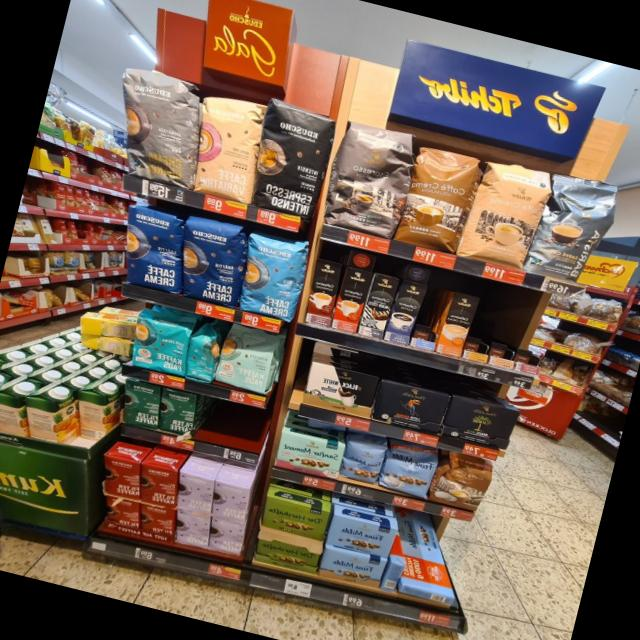BM Gemahlen: (439, 392, 522, 452)
BW Gemahlen: (300, 359, 380, 420)
Barista CC: (524, 165, 622, 288)
CC Mild: (456, 154, 554, 272)
CC Vollmundig: (428, 448, 496, 514)
CC Vollmundig 36 Pads: (392, 140, 484, 256)
Empty Shelf: (412, 284, 452, 344), (514, 306, 550, 366), (488, 300, 524, 360), (464, 295, 499, 354)
Espresso Aromatisch: (320, 113, 419, 240)
FM 36 Pads: (376, 438, 440, 498)
FM Bohne: (338, 434, 388, 487)
FM Gemahlen: (323, 510, 398, 560), (316, 544, 387, 592)
Herzhatfe Mundig: (260, 494, 332, 542), (252, 532, 321, 575)
LG Gemahlen: (370, 376, 450, 436)
SM Gemahlen: (272, 428, 346, 482)
Simo CCVollmundig bigpack: (435, 290, 479, 358)
Simo Es Brazil: (330, 266, 372, 334)
Simo Es Caramel: (302, 257, 344, 327)
Simo Es Elegant: (357, 272, 399, 339)
Simo Es Kraft: (382, 278, 427, 345)
